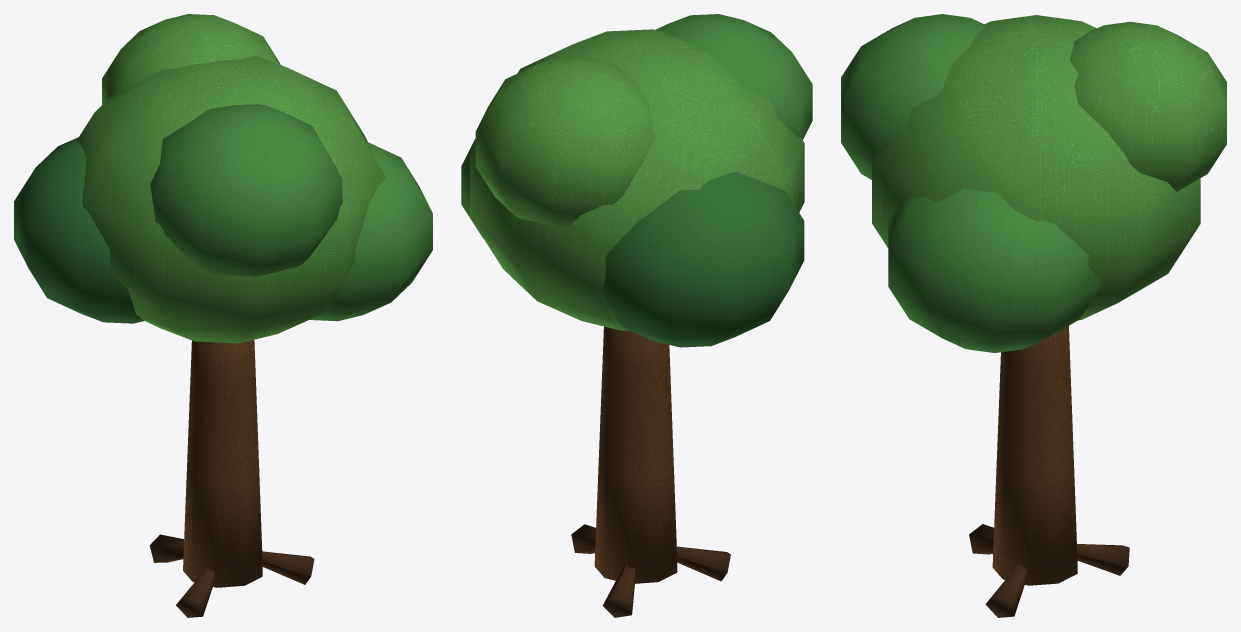
The model's file is tree.glb.
3 views of the same model, side by side, from view 1: azimuth 30°, elevation 25°; view 2: azimuth 150°, elevation 25°; view 3: azimuth 270°, elevation 25° (orthographic). The views are drawn at different scales.
Visible parts, largest first — view 1: prop_tree; view 2: prop_tree; view 3: prop_tree.
Part boxes in pixels (x1,y1,x2,y2): prop_tree: [14, 14, 432, 617]; prop_tree: [461, 14, 812, 617]; prop_tree: [841, 14, 1226, 617].
Bounding box in the file's own units: 4.09 × 5.94 × 3.7.
Materials: 1 (1 with a texture image).
